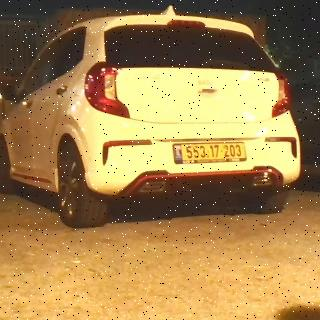LicensePlate: (181, 142, 245, 160)
